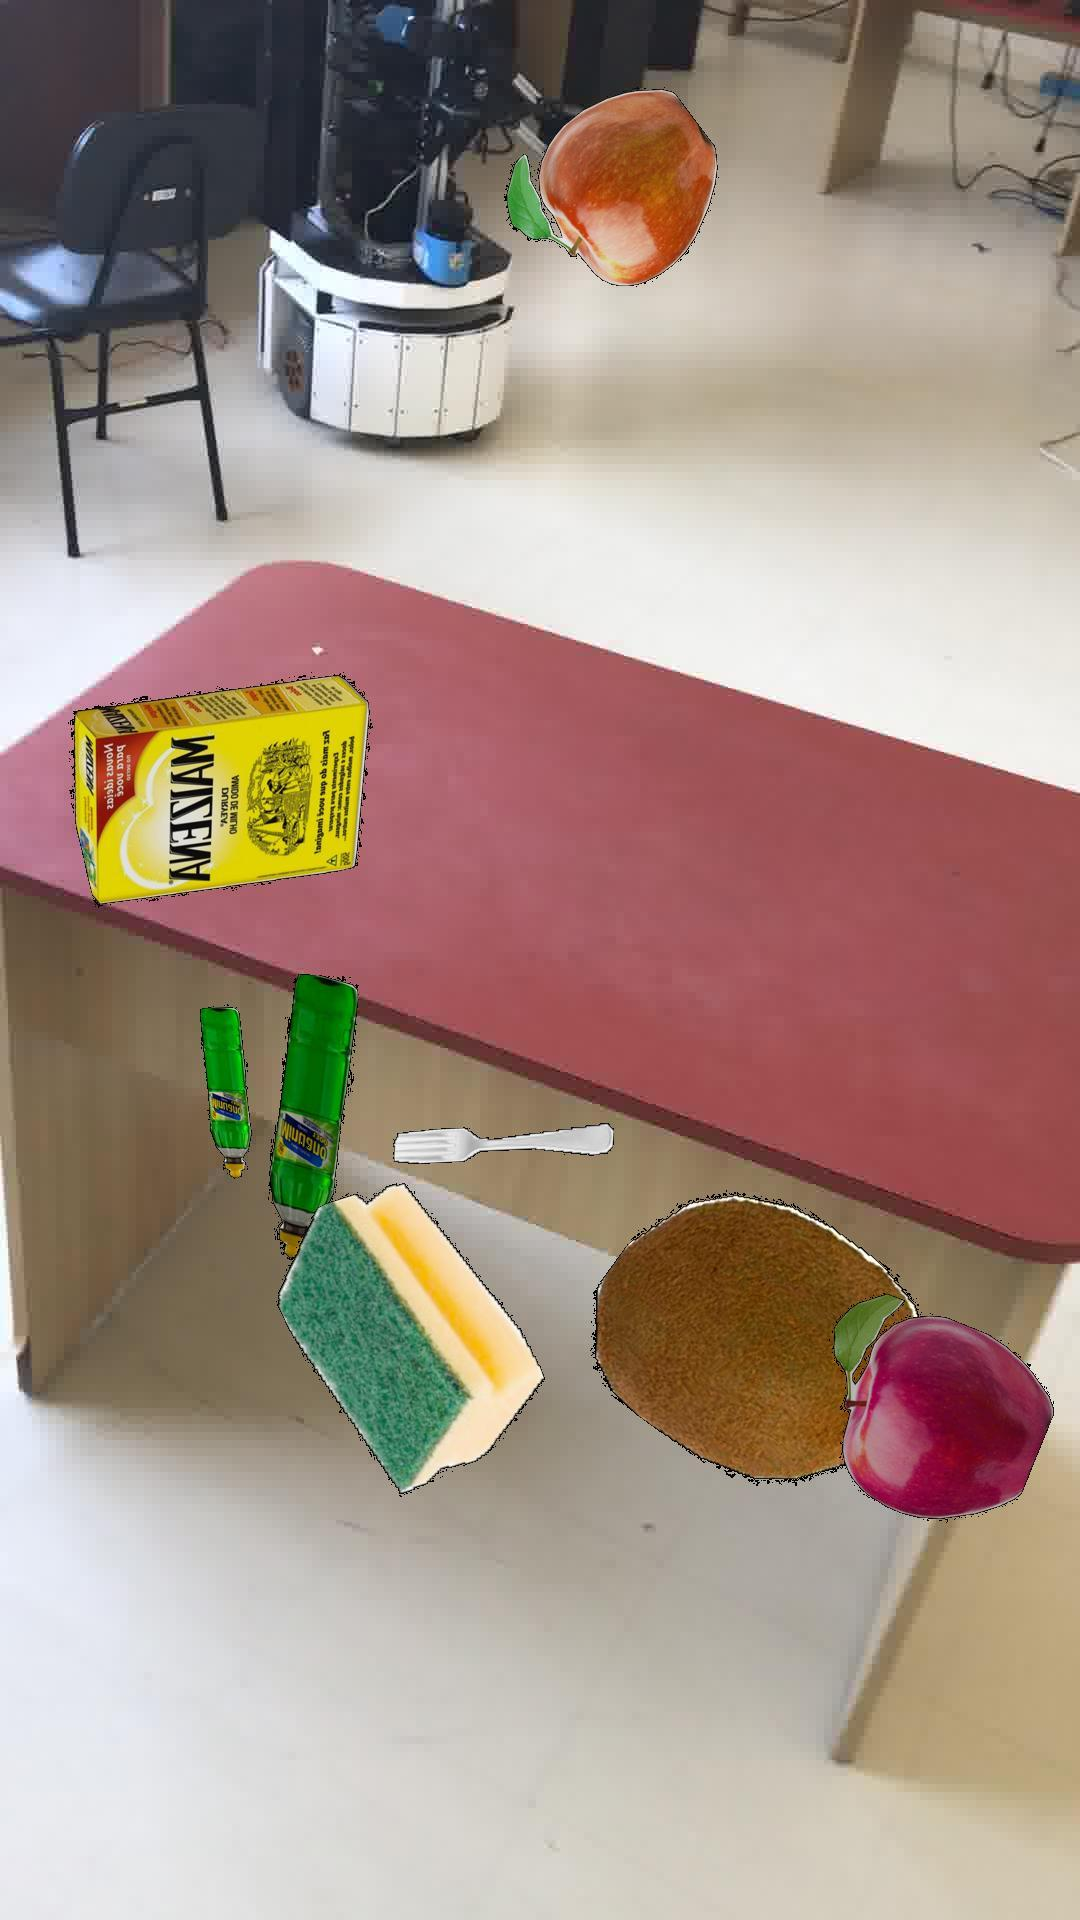apple: (831, 1291, 1052, 1518), (502, 87, 716, 285)
cleaner: (266, 972, 357, 1258), (199, 1005, 251, 1178)
fork: (392, 1121, 612, 1163)
kiwi: (591, 1191, 918, 1485)
sponge: (276, 1182, 543, 1493)
